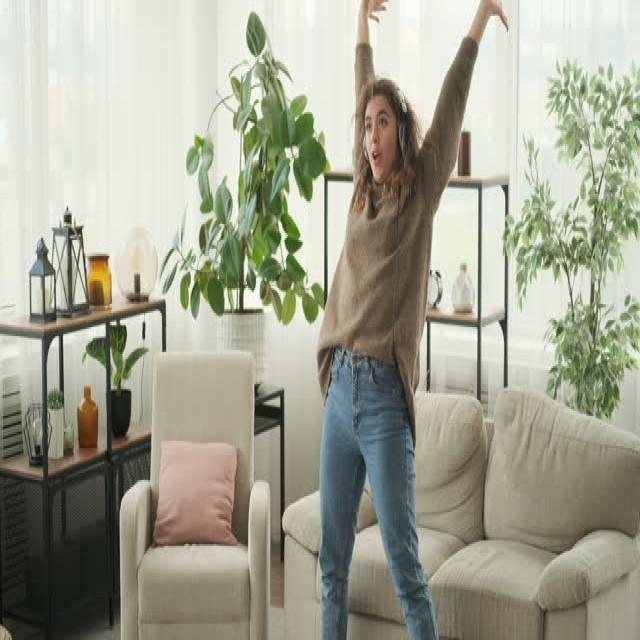walking: (316, 0, 502, 634)
